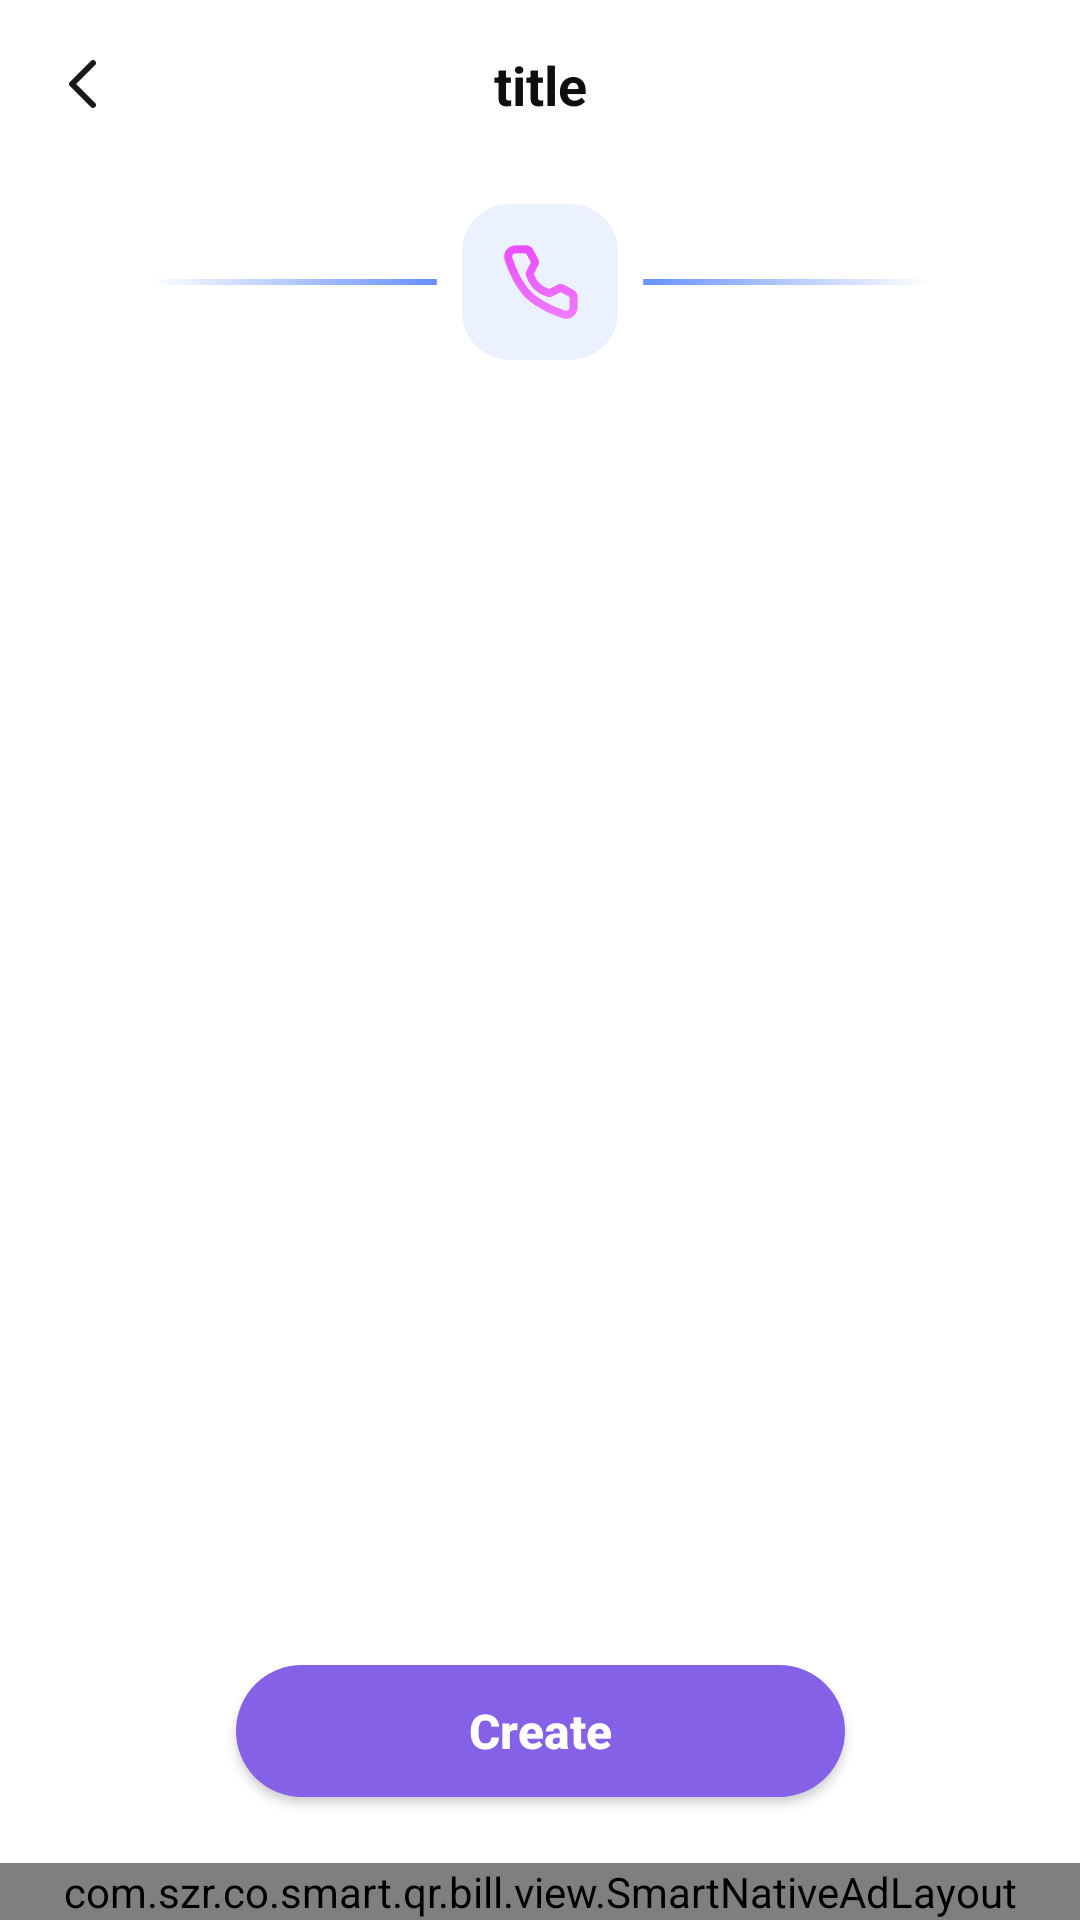

Where to tap for icons on this 1080px×1920px app screen, as (x,y):
arrow back: (82,84)
qr phone: (541,282)
